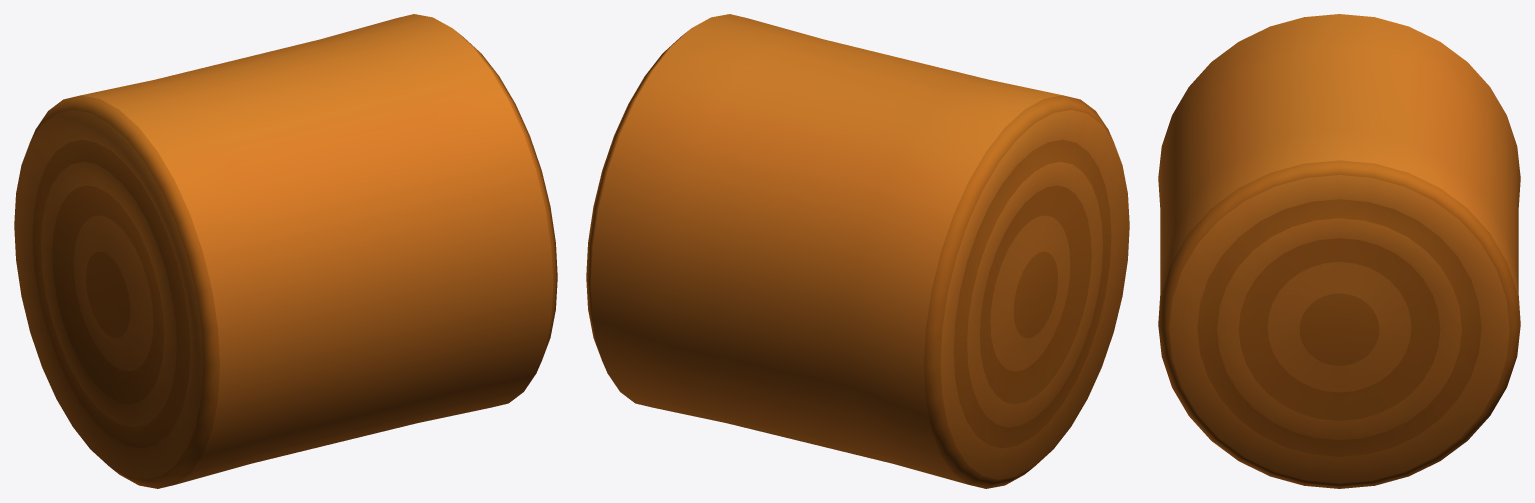
The model's file is Obstacle_Stack_01.fbx.
The picture shows the model from 3 angles, left to right: view 1: azimuth 30°, elevation 25°; view 2: azimuth 150°, elevation 25°; view 3: azimuth 270°, elevation 25°; orthographic projection. The views are drawn at different scales.
Visible parts, largest first — view 1: Obstacle_Stack_01; view 2: Obstacle_Stack_01; view 3: Obstacle_Stack_01.
Part boxes in pixels (left/top/right/bottom): Obstacle_Stack_01: left=14, top=14, right=557, bottom=488; Obstacle_Stack_01: left=586, top=14, right=1129, bottom=488; Obstacle_Stack_01: left=1158, top=14, right=1520, bottom=488.
Bounding box in the file's own units: 0.627 × 0.6147 × 0.6147.
